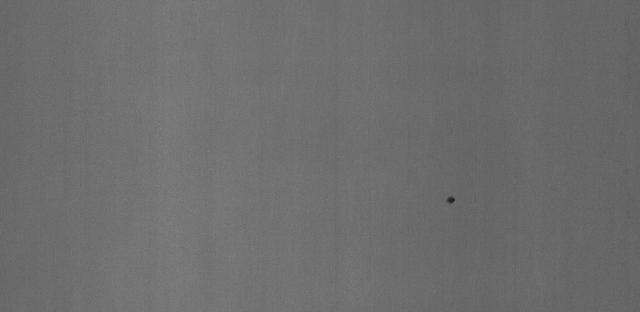inclusion: (443, 194, 456, 208)
